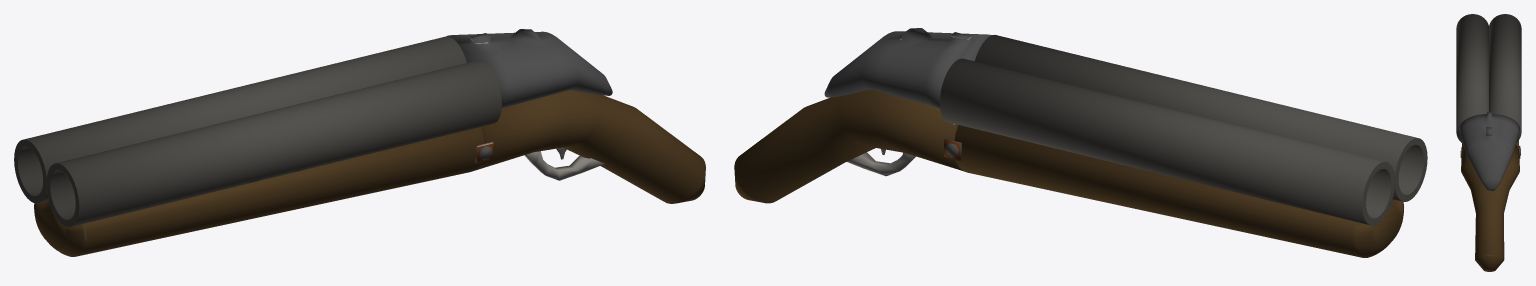
Rendered from shotgun_1.fbx.
The picture shows the model from 3 angles, left to right: view 1: azimuth 30°, elevation 25°; view 2: azimuth 150°, elevation 25°; view 3: azimuth 270°, elevation 25°; orthographic projection. The views are drawn at different scales.
Visible parts, largest first — view 1: Cylinder; view 2: Cylinder; view 3: Cylinder.
Part boxes in pixels (x1=…): Cylinder: x1=14, y1=29, x2=705, y2=256; Cylinder: x1=734, y1=28, x2=1427, y2=257; Cylinder: x1=1456, y1=14, x2=1521, y2=271.
Size of the model in its own units: 978 by 305 by 168.
